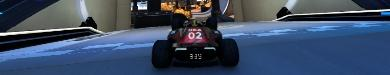Car: (150, 17, 239, 68)
